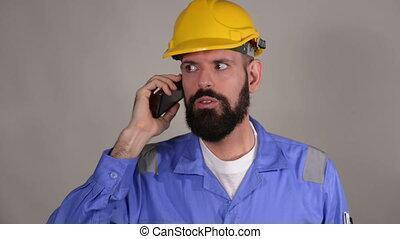helmet: (162, 0, 266, 58)
